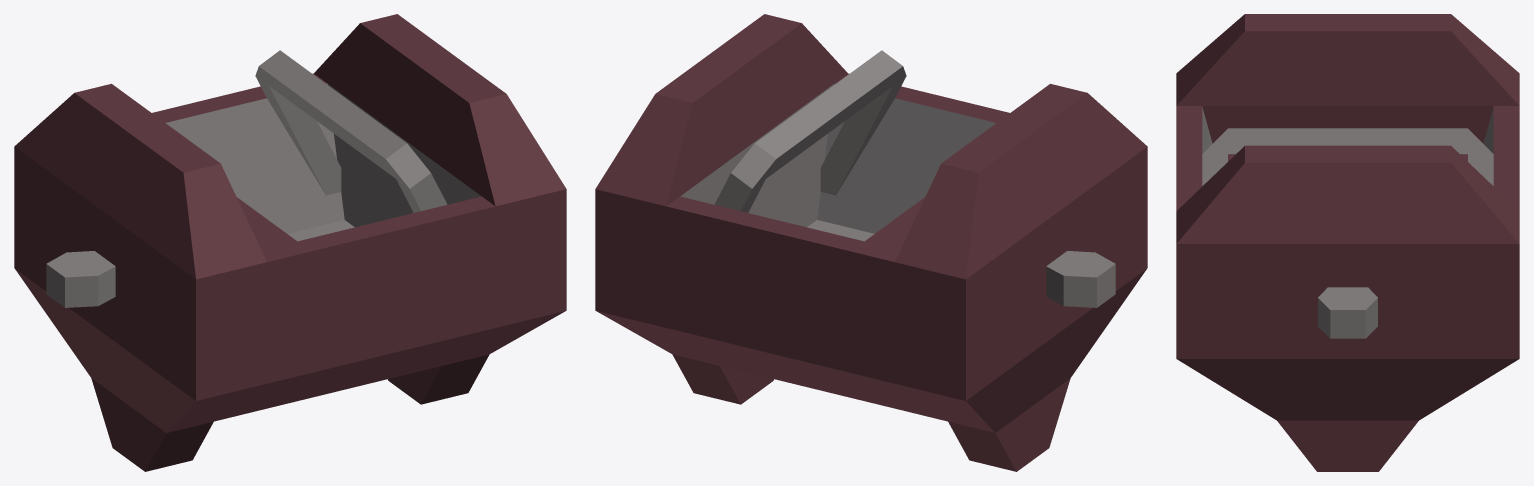
Rendered from amusement-park-roller-coaster-cart.glb.
3 views of the same model, side by side, from view 1: azimuth 30°, elevation 25°; view 2: azimuth 150°, elevation 25°; view 3: azimuth 270°, elevation 25° (orthographic). The views are drawn at different scales.
Visible parts, largest first — view 1: roller-coaster-cart; view 2: roller-coaster-cart; view 3: roller-coaster-cart.
Boxes of the visible parts, x1=… form: roller-coaster-cart: x1=14, y1=14, x2=566, y2=471; roller-coaster-cart: x1=595, y1=14, x2=1147, y2=471; roller-coaster-cart: x1=1176, y1=14, x2=1519, y2=471.
Bounding box in the file's own units: 1.98 × 1.32 × 1.33.
